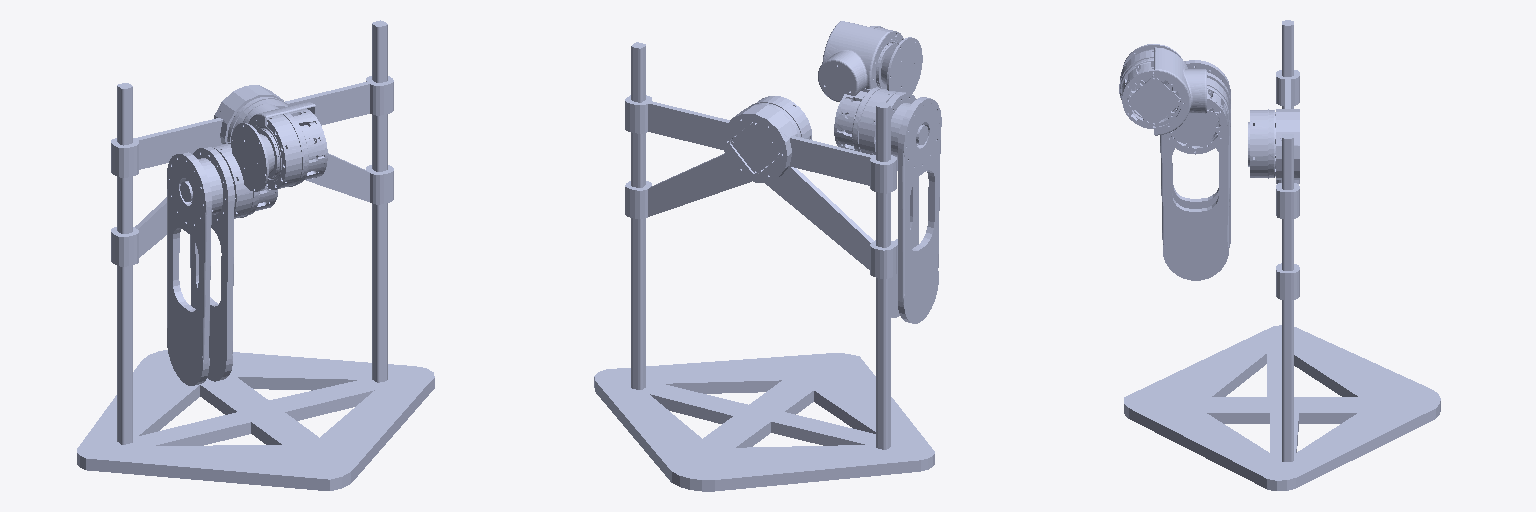
The robot description file, URDF, robot "titanleg":
<?xml version="1.0" encoding="utf-8"?>
<robot
name="titanleg" xmlns:xacro="http://ros.org/wiki/xacro">
<link
  name="world_link"/>
  <link
    name="base_link">
    <inertial>
      <origin
        xyz="0.21336 0.19641 0.47164"
        rpy="0 0 0" />
      <mass
        value="4.5603" />
      <inertia
        ixx="0.18944"
        ixy="-0.0011006"
        ixz="-0.0010776"
        iyy="0.14467"
        iyz="0.0025115"
        izz="0.2416" />
    </inertial>
    <visual>
      <origin
        xyz="0 0 0"
        rpy="0 0 0" />
      <geometry>
        <mesh
          filename="package://my_box_bot_gazebo/meshes/base_link.STL" />
      </geometry>
      <material
        name="">
        <color
          rgba="0.79216 0.81961 0.93333 1" />
      </material>
    </visual>
    <collision>
      <origin
        xyz="0 0 0"
        rpy="0 0 0" />
      <geometry>
        <mesh
          filename="package://my_box_bot_gazebo/meshes/base_link.STL" />
      </geometry>
    </collision>
  </link>
  <joint
    name="dummy_joint"
    type="fixed">
    <parent
      link="world_link" />
    <child
      link="base_link" />
  </joint>
  <link
    name="c_bracket">
    <inertial>
      <origin
        xyz="-0.015562 7.5219E-08 -0.058789"
        rpy="0 0 0" />
      <mass
        value="0.77495" />
      <inertia
        ixx="0.00075345"
        ixy="-1.7652E-07"
        ixz="-3.4188E-08"
        iyy="0.00068021"
        iyz="-5.2795E-09"
        izz="0.0011515" />
    </inertial>
    <visual>
      <origin
        xyz="0 0 0"
        rpy="0 0 0" />
      <geometry>
        <mesh
          filename="package://my_box_bot_gazebo/meshes/c_bracket.STL" />
      </geometry>
      <material
        name="">
        <color
          rgba="0.79216 0.81961 0.93333 1" />
      </material>
    </visual>
    <collision>
      <origin
        xyz="0 0 0"
        rpy="0 0 0" />
      <geometry>
        <mesh
          filename="package://my_box_bot_gazebo/meshes/c_bracket.STL" />
      </geometry>
    </collision>
  </link>
  <joint
    name="acc_cb"
    type="fixed">
    <origin
      xyz="0.25765 -0.61988 0.5435"
      rpy="-1.5708 0 -1.5708" />
    <parent
      link="base_link" />
    <child
      link="c_bracket" />
    <axis
      xyz="0 0 0" />
    <limit
      lower="0"
      upper="0"
      effort="0"
      velocity="0" />
  </joint>
  <link
    name="knee_acc">
    <inertial>
      <origin
        xyz="-0.057372 0.017907 0.17759"
        rpy="0 0 0" />
      <mass
        value="1.2196" />
      <inertia
        ixx="0.0036684"
        ixy="-0.0039401"
        ixz="-1.3458E-07"
        iyy="0.0082178"
        iyz="2.3021E-07"
        izz="0.011734" />
    </inertial>
    <visual>
      <origin
        xyz="0 0 0"
        rpy="0 0 0" />
      <geometry>
        <mesh
          filename="package://my_box_bot_gazebo/meshes/knee_acc.STL" />
      </geometry>
      <material
        name="">
        <color
          rgba="0.79216 0.81961 0.93333 1" />
      </material>
    </visual>
    <collision>
      <origin
        xyz="0 0 0"
        rpy="0 0 0" />
      <geometry>
        <mesh
          filename="package://my_box_bot_gazebo/meshes/knee_acc.STL" />
      </geometry>
    </collision>
  </link>
  <joint
    name="knee_joint"
    type="fixed">
    <origin
      xyz="0.043759 0.041835 -0.022842"
      rpy="3.1416 0 -1.0367" />
    <parent
      link="c_bracket" />
    <child
      link="knee_acc" />
    <axis
      xyz="0 0 0" />
    <limit
      lower="0"
      upper="0"
      effort="0"
      velocity="0" />
  </joint>
  <link
    name="pulley">
    <inertial>
      <origin
        xyz="-1.6514E-05 -1.6379E-05 0.014001"
        rpy="0 0 0" />
      <mass
        value="0.15149" />
      <inertia
        ixx="9.4644E-05"
        ixy="-1.1266E-08"
        ixz="-4.3145E-09"
        iyy="9.4575E-05"
        iyz="-7.8319E-10"
        izz="0.0001694" />
    </inertial>
    <visual>
      <origin
        xyz="0 0 0"
        rpy="0 0 0" />
      <geometry>
        <mesh
          filename="package://my_box_bot_gazebo/meshes/pulley.STL" />
      </geometry>
      <material
        name="">
        <color
          rgba="0.79216 0.81961 0.93333 1" />
      </material>
    </visual>
    <collision>
      <origin
        xyz="0 0 0"
        rpy="0 0 0" />
      <geometry>
        <mesh
          filename="package://my_box_bot_gazebo/meshes/pulley.STL" />
      </geometry>
    </collision>
  </link>
  <joint
    name="pulley_joint"
    type="fixed">
    <origin
      xyz="0.013735 0.058961 0.21416"
      rpy="3.1416 0 -1.3981" />
    <parent
      link="knee_acc" />
    <child
      link="pulley" />
    <axis
      xyz="0 0 0" />
    <limit
      lower="0"
      upper="0"
      effort="0"
      velocity="0" />
  </joint>
  <link
    name="lower_leg">
    <inertial>
      <origin
        xyz="0.12376 0.15623 0.20854"
        rpy="0 0 0" />
      <mass
        value="0.66281" />
      <inertia
        ixx="0.0053278"
        ixy="-8.1103E-06"
        ixz="3.0145E-07"
        iyy="0.00048348"
        iyz="0.00018364"
        izz="0.0057605" />
    </inertial>
    <visual>
      <origin
        xyz="0 0 0"
        rpy="0 0 0" />
      <geometry>
        <mesh
          filename="package://my_box_bot_gazebo/meshes/lower_leg.STL" />
      </geometry>
      <material
        name="">
        <color
          rgba="0.79216 0.81961 0.93333 1" />
      </material>
    </visual>
    <collision>
      <origin
        xyz="0 0 0"
        rpy="0 0 0" />
      <geometry>
        <mesh
          filename="package://my_box_bot_gazebo/meshes/lower_leg.STL" />
      </geometry>
    </collision>
  </link>
  <joint
    name="lower_joint"
    type="fixed">
    <origin
      xyz="1 0.29106 0.22292"
      rpy="-3.1416 0 -1.8781" />
    <parent
      link="pulley" />
    <child
      link="lower_leg" />
    <axis
      xyz="0 0 0" />
    <limit
      lower="0"
      upper="0"
      effort="0"
      velocity="0" />
  </joint>
</robot>

--- What the picture shows (computed from the rendered views, not written in the file) ---
The picture shows the robot from 3 angles, left to right: view 1: azimuth 30°, elevation 25°; view 2: azimuth 150°, elevation 25°; view 3: azimuth 270°, elevation 25°; orthographic projection.
Robot: titanleg — 6 links, 5 joints (5 fixed); root link world_link; default pose: every joint at zero.
Links seen in each view (by area): view 1: base_link, knee_acc, c_bracket, pulley; view 2: base_link, knee_acc, c_bracket; view 3: base_link, knee_acc, c_bracket.
Link boxes in pixels (x1,y1,x2,y2): base_link: (77, 20, 434, 490); knee_acc: (167, 142, 277, 385); c_bracket: (231, 102, 327, 191); pulley: (187, 158, 222, 214); base_link: (594, 42, 934, 491); knee_acc: (834, 87, 941, 323); c_bracket: (818, 21, 922, 101); base_link: (1124, 20, 1440, 490); knee_acc: (1160, 60, 1230, 280); c_bracket: (1119, 44, 1206, 135).
Bounding box of the posed robot: 0.6185 × 0.541 × 0.6309 m (x, y, z).
Meshes: 5 distinct files referenced, 4 mesh visuals loaded (4 binary STL); not drawn: 1 (reference not matched to a file when rendering).